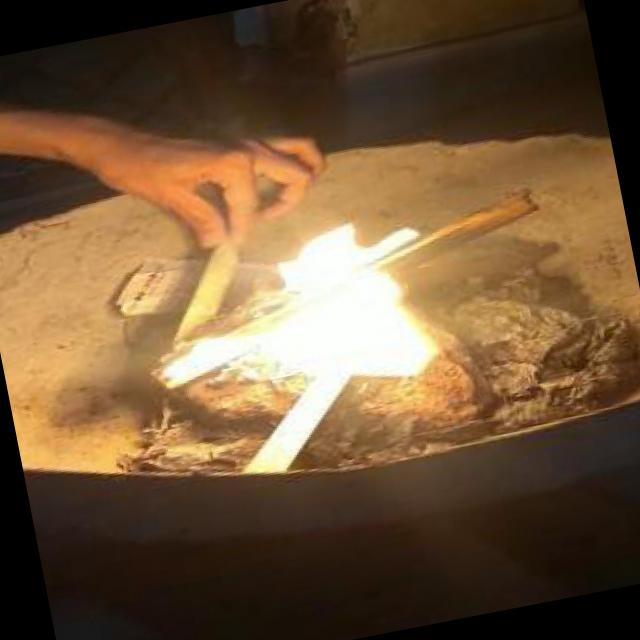fire: (130, 215, 478, 440)
